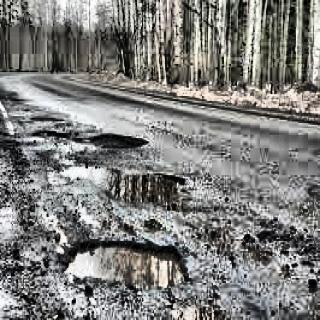alligator-crack: (1, 137, 54, 314)
pothole: (60, 230, 198, 298), (67, 164, 189, 207), (79, 125, 146, 160), (39, 124, 73, 148)
